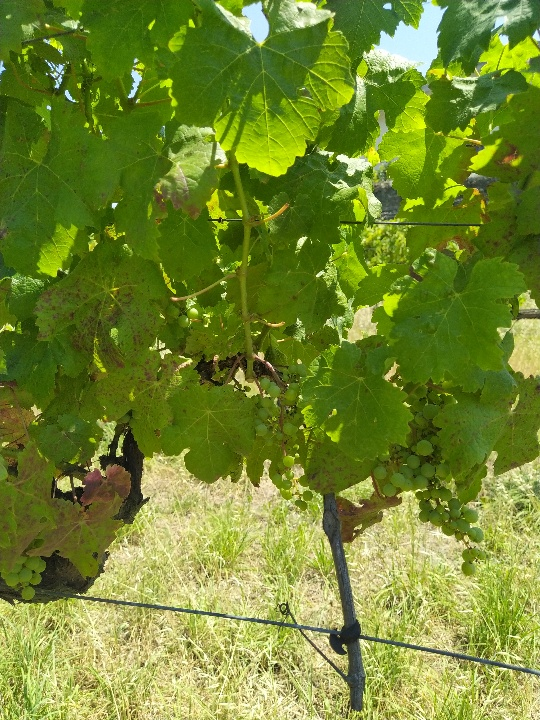grape: (373, 375, 490, 578)
